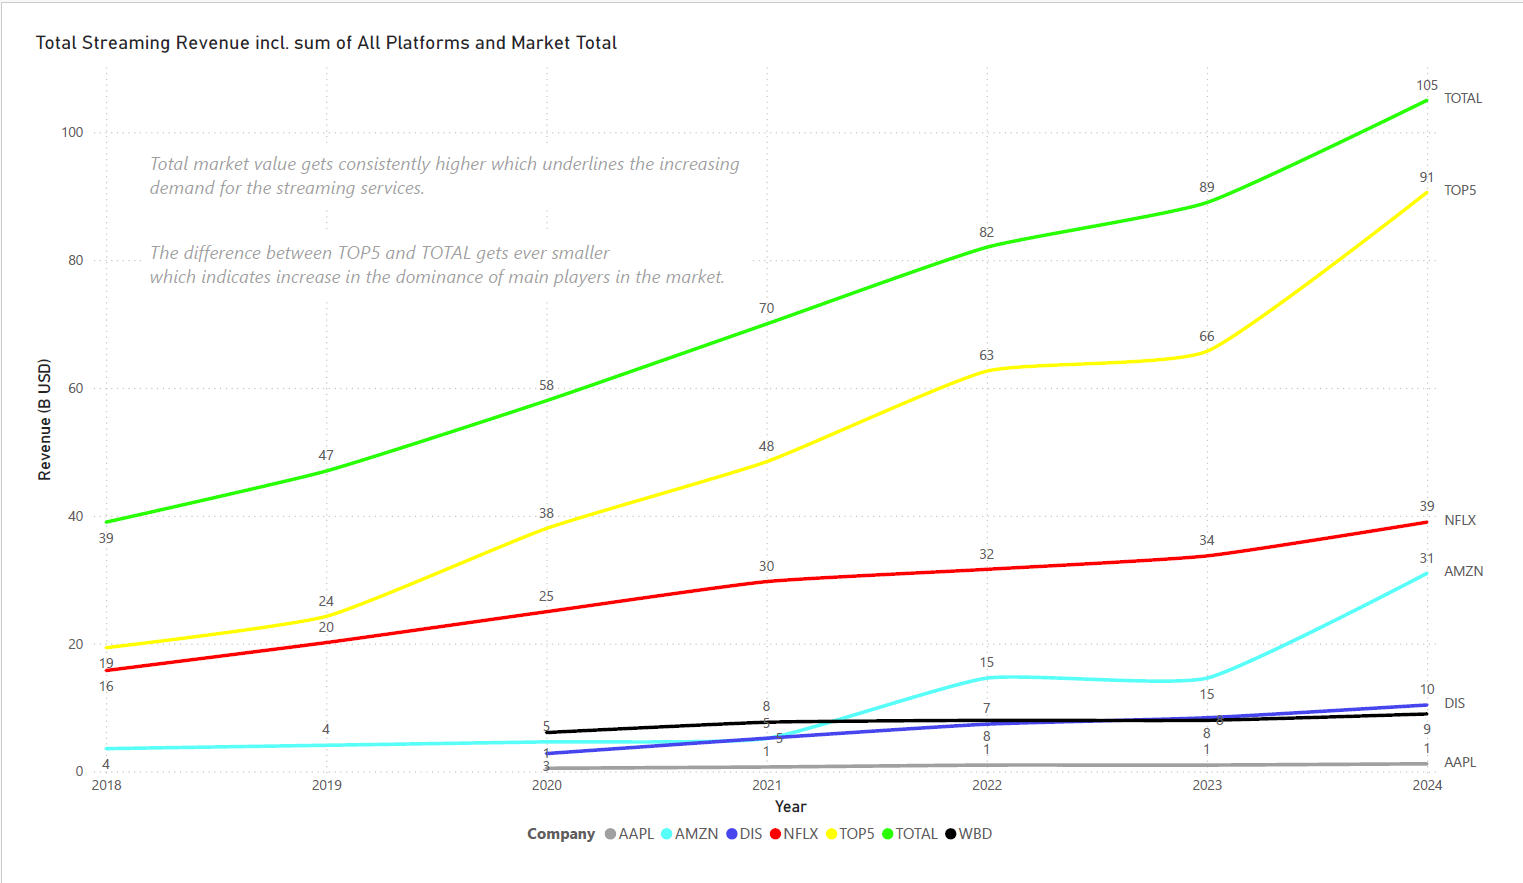

The page's visual inventory and layout, read from the dashboard file:
{"tool":"powerbi","page":{"name":"1. Total Revenue incl. TOP5 and TOTAL","canvas":[1280,720],"ordinal":2},"visuals":[{"type":"lineChart","title":"Total Streaming Revenue incl. sum of All Platforms and Market Total","fields":{"Series":["All Data.Company"],"Y":["Sum(All Data.Revenue_B_USD)"],"Category":["All Data.Year"]},"box":[0,0,1280,720],"z":0},{"type":"textbox","box":[100,100,530,55.7],"z":1000},{"type":"textbox","box":[100,177.1,530,55.7],"z":2000}]}

Visuals, with their boxes in screenshot pixels (x1, y1, x2, y2), scaled from the page's 1280x720 canvas onto the 1523x883 screenshot:
"Total Streaming Revenue incl. sum of All Platforms and Market Total" lineChart: {"x1": 0, "y1": 0, "x2": 1522, "y2": 882}
textbox: {"x1": 119, "y1": 123, "x2": 750, "y2": 191}
textbox: {"x1": 119, "y1": 217, "x2": 750, "y2": 286}
